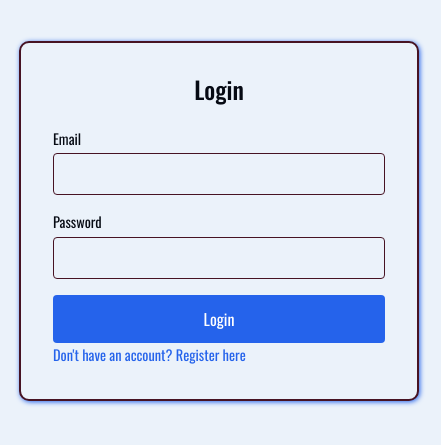
Test: LoginForm › shows validation error for invalid email
This screenshot has width=441, height=445.
Type "invalid-email" into the field labelled "Email".
click(219, 174); type("invalid-email")  # box [53,153,385,195]
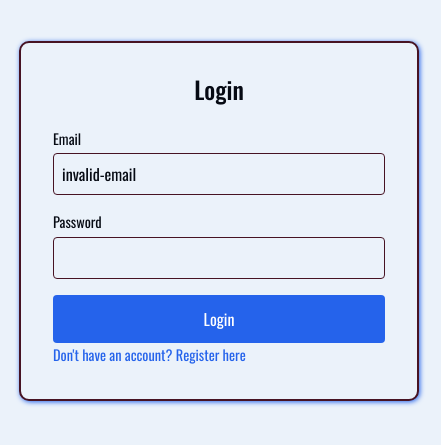
Submit the form from the button "Login", box [53,295,385,343]
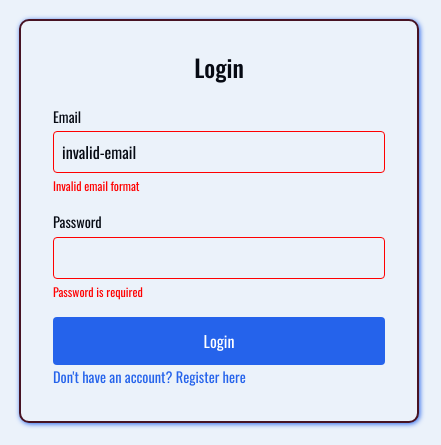
Check: the text "Invalid email format" is shown, box [53,177,140,194]
